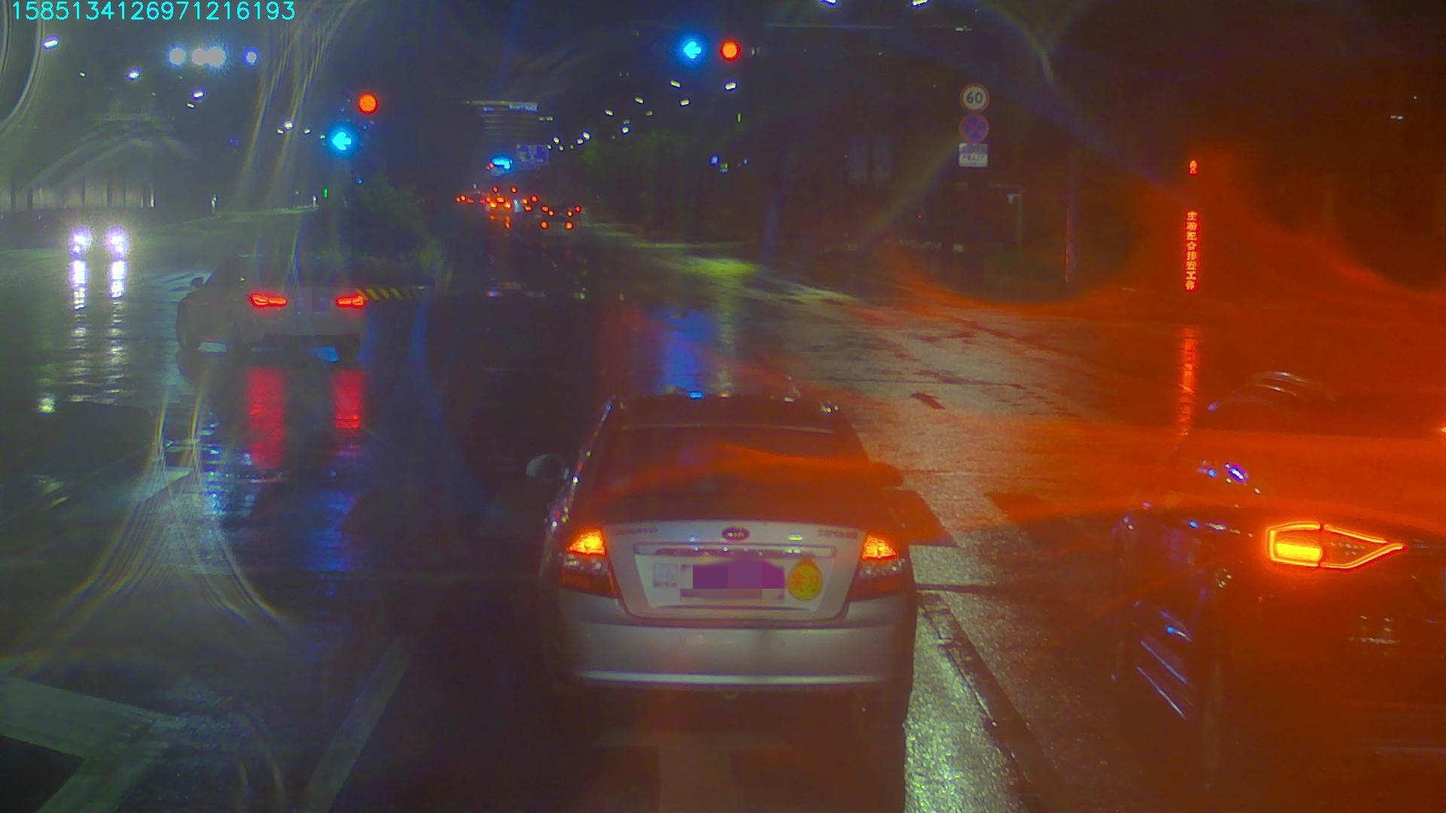green: (680, 38, 700, 60)
red: (722, 40, 743, 64)
